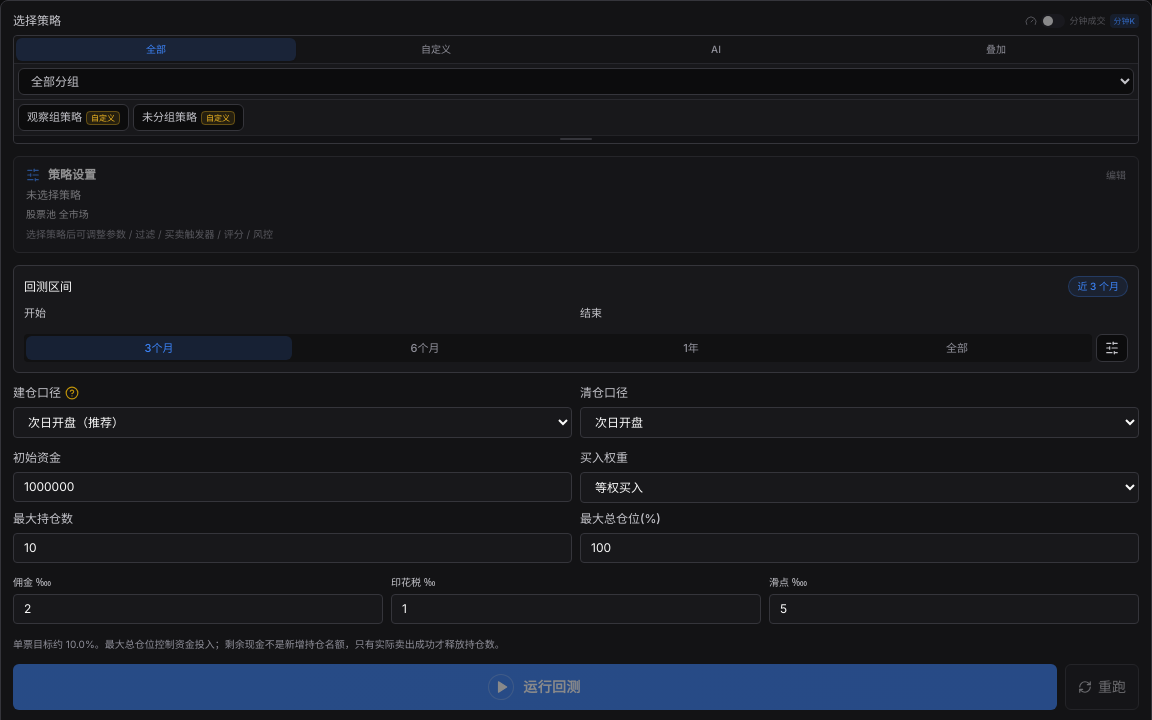
Test: 策略回测隐藏新选择中的归档策略并支持自定义分组
Step 1. Select "观察组" in the dropdown named "策略分组" → {"x": 576, "y": 82}, box 18,68 -> 1134,95
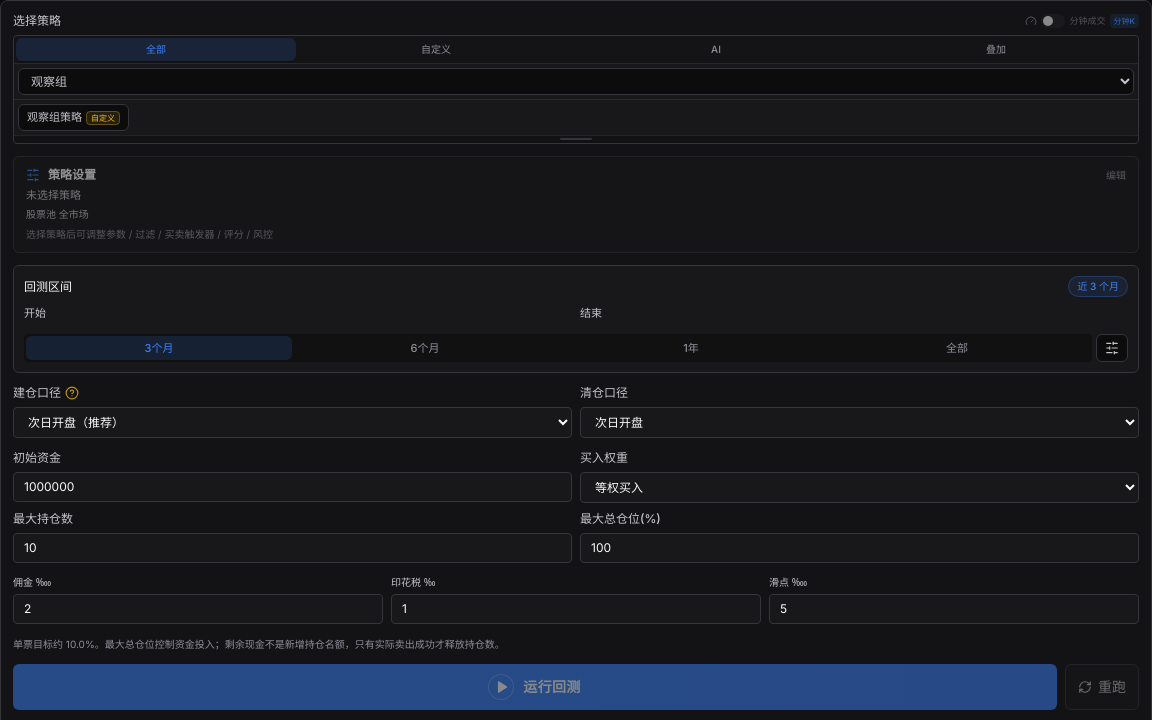
Expected: the text "观察组策略" is shown, 27,110 -> 82,124
Result: the text "未分组策略" is gone
